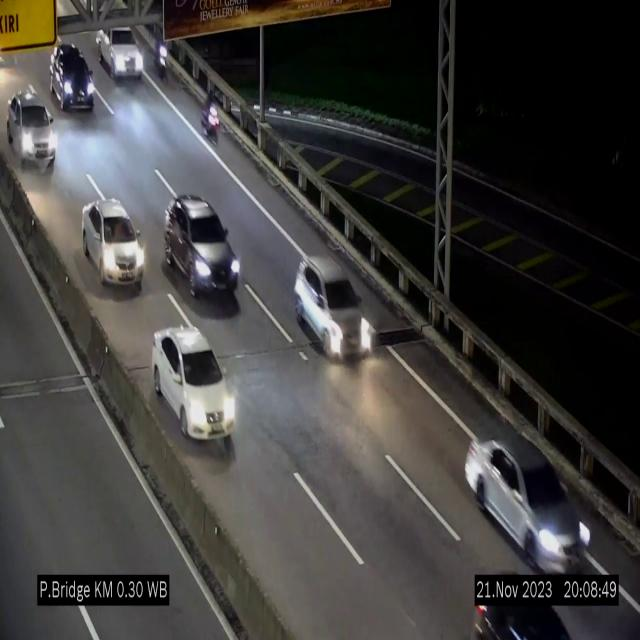Car: (465, 429, 593, 575), (152, 326, 236, 443), (163, 194, 240, 301), (294, 256, 373, 357), (82, 199, 146, 288), (472, 586, 574, 640), (3, 84, 60, 177), (47, 41, 98, 120), (98, 28, 144, 84)
Motorcycle: (198, 81, 223, 147), (151, 32, 170, 88)
